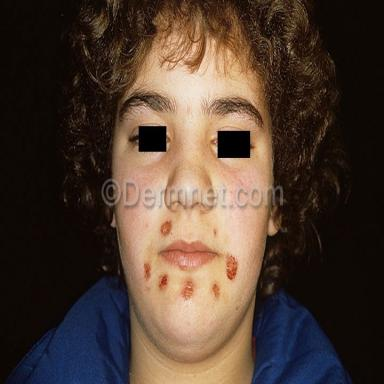acne: (226, 255, 238, 280), (182, 281, 193, 300), (161, 220, 172, 236), (159, 274, 168, 289), (144, 262, 151, 280), (213, 283, 220, 298), (213, 229, 217, 236)
